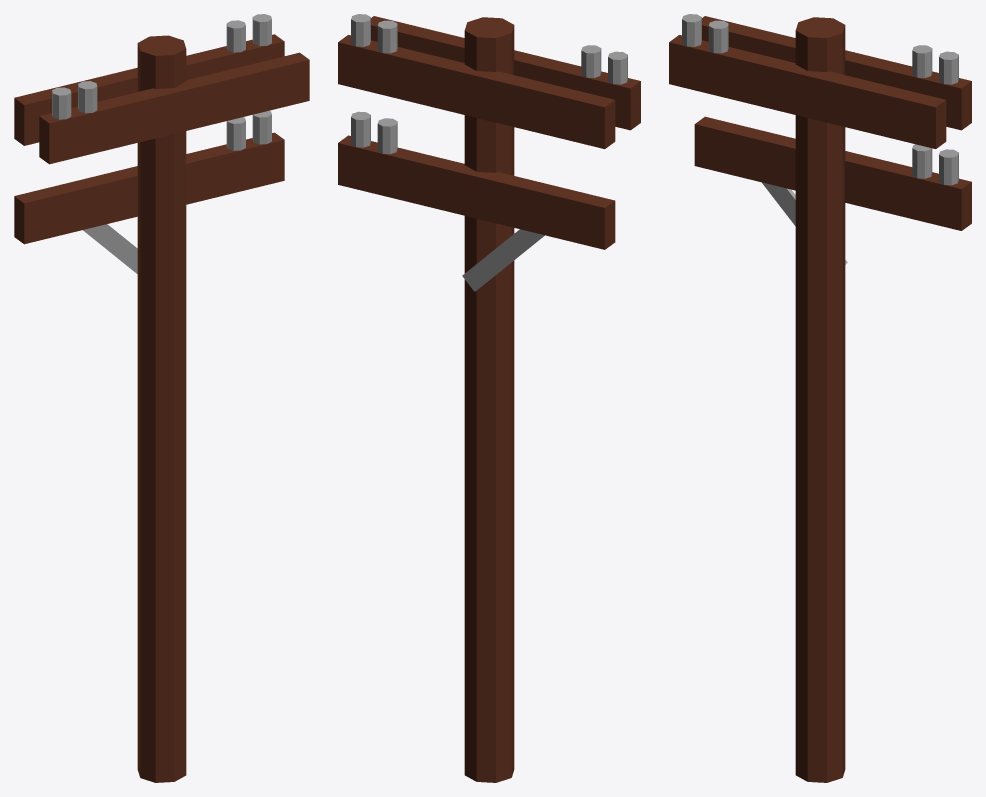
The model's file is slup.gltf.
3 views of the same model, side by side, from view 1: azimuth 30°, elevation 25°; view 2: azimuth 150°, elevation 25°; view 3: azimuth 330°, elevation 25° (orthographic). The views are drawn at different scales.
Parts seen in each view (by area): view 1: Cylinder, Cube.002, Cube.003, Cube.001, Cube.004, Cylinder.004, Cylinder.003, Cylinder.006, Cylinder.002, Cylinder.005, Cylinder.001; view 2: Cylinder, Cube.003, Cube.001, Cube.002, Cube.004, Cylinder.004, Cylinder.003, Cylinder.002, Cylinder.005, Cylinder.006, Cylinder.001; view 3: Cylinder, Cube.002, Cube.003, Cube.001, Cylinder.003, Cylinder.004, Cylinder.005, Cylinder.002, Cube.004, Cylinder.001, Cylinder.006.
Boxes of the visible parts, left/top/right/bottom form: Cylinder: left=137, top=35, right=186, bottom=782; Cube.002: left=39, top=52, right=309, bottom=164; Cube.003: left=14, top=132, right=284, bottom=244; Cube.001: left=14, top=34, right=284, bottom=145; Cube.004: left=83, top=224, right=137, bottom=273; Cylinder.004: left=226, top=117, right=245, bottom=150; Cylinder.003: left=252, top=111, right=271, bottom=144; Cylinder.006: left=52, top=87, right=71, bottom=119; Cylinder.002: left=226, top=20, right=245, bottom=52; Cylinder.005: left=78, top=81, right=97, bottom=113; Cylinder.001: left=252, top=14, right=271, bottom=46; Cylinder: left=464, top=17, right=514, bottom=782; Cube.003: left=338, top=135, right=615, bottom=249; Cube.001: left=338, top=35, right=615, bottom=148; Cube.002: left=371, top=16, right=640, bottom=130; Cube.004: left=462, top=229, right=544, bottom=291; Cylinder.004: left=377, top=118, right=397, bottom=154; Cylinder.003: left=351, top=111, right=370, bottom=147; Cylinder.002: left=377, top=20, right=397, bottom=53; Cylinder.005: left=581, top=45, right=601, bottom=77; Cylinder.006: left=608, top=51, right=627, bottom=84; Cylinder.001: left=351, top=14, right=370, bottom=46; Cylinder: left=795, top=17, right=845, bottom=782; Cube.002: left=669, top=35, right=946, bottom=148; Cube.003: left=694, top=116, right=971, bottom=230; Cube.001: left=702, top=16, right=971, bottom=130; Cylinder.003: left=939, top=149, right=958, bottom=185; Cylinder.004: left=912, top=144, right=932, bottom=178; Cylinder.005: left=708, top=20, right=728, bottom=53; Cylinder.002: left=912, top=45, right=932, bottom=77; Cube.004: left=762, top=182, right=847, bottom=264; Cylinder.001: left=939, top=51, right=958, bottom=84; Cylinder.006: left=682, top=14, right=701, bottom=46.
Bounding box in the file's own units: 3 × 8 × 0.7.
